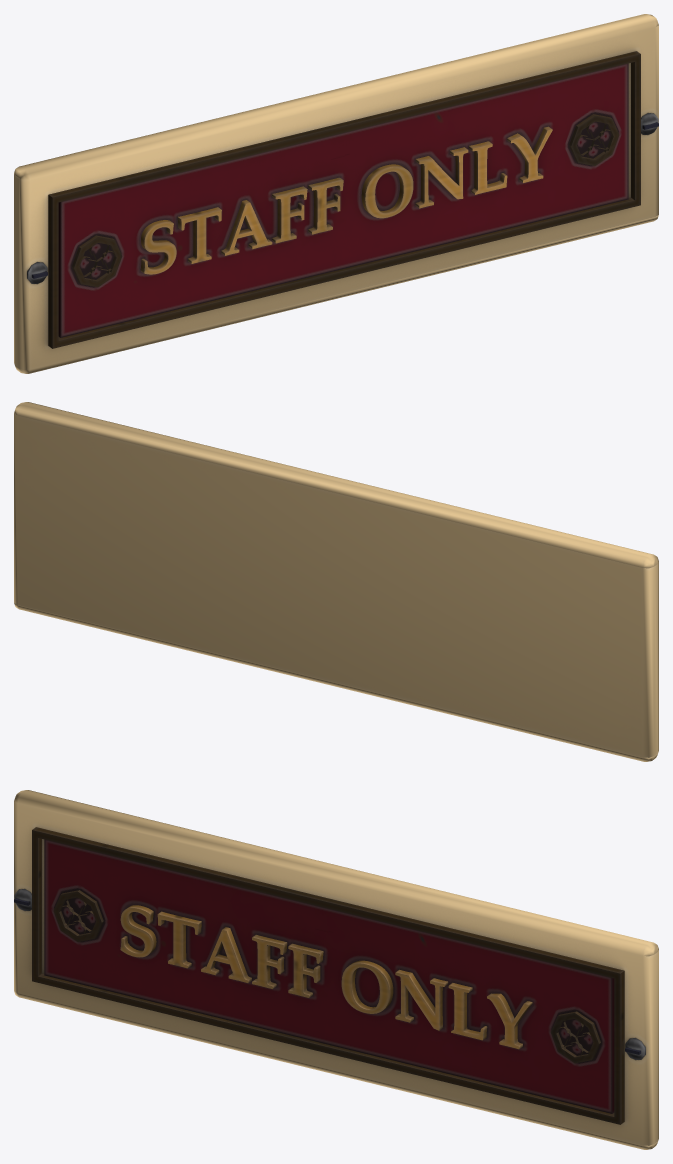
The model's file is StaffOnlySign.fbx.
The picture shows the model from 3 angles, top to bottom: view 1: azimuth 30°, elevation 25°; view 2: azimuth 150°, elevation 25°; view 3: azimuth 330°, elevation 25°; orthographic projection.
Visible parts, largest first — view 1: StaffOnlySign; view 2: StaffOnlySign; view 3: StaffOnlySign.
Boxes of the visible parts, x1,y1,x2,y2 form: StaffOnlySign: (14,14,658,373); StaffOnlySign: (14,402,658,761); StaffOnlySign: (14,790,658,1149).
Size of the model in its own units: 180 by 55 by 8.8.
